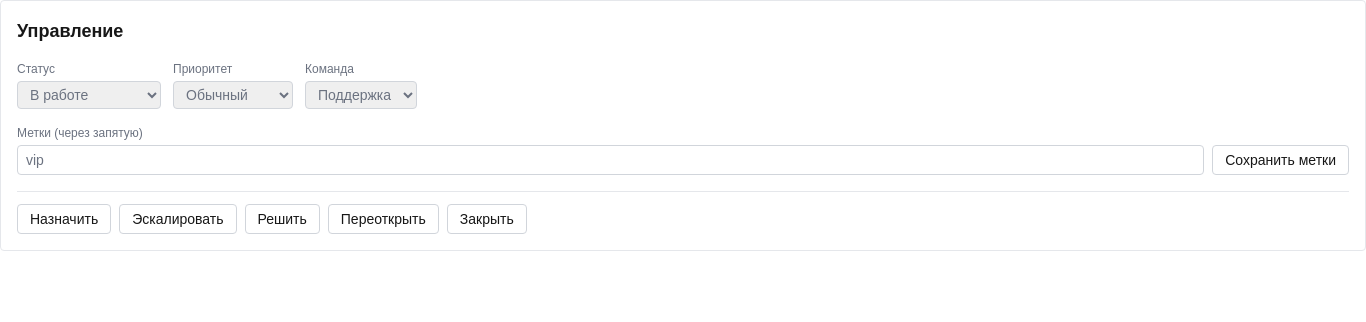
it: TicketActions — ошибки (409/422) › 422 (недопустимый переход) → алерт с текстом title
Select "Решена" in the dropdown labelled "Статус" at (89, 95), box [17,81,161,109]
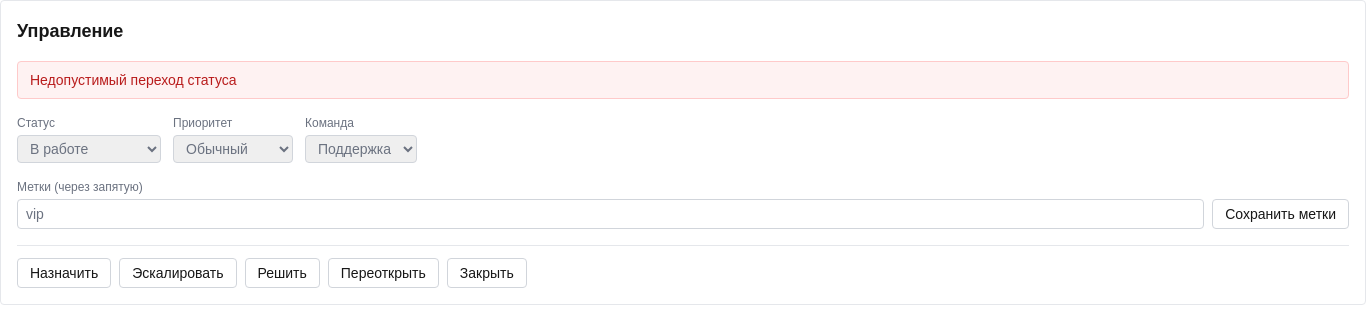
Now the message reads "Недопустимый переход статуса", box [30,72,236,88]
